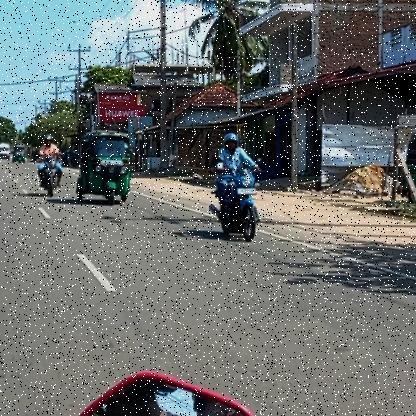motorcycle: (206, 166, 266, 245)
